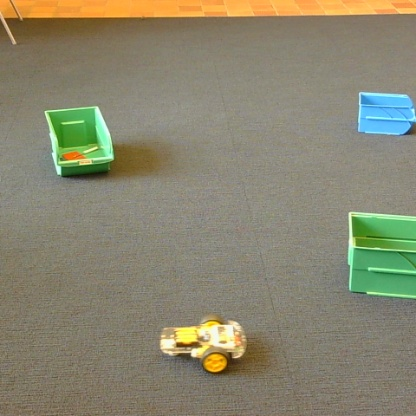robot: (160, 314, 246, 373)
